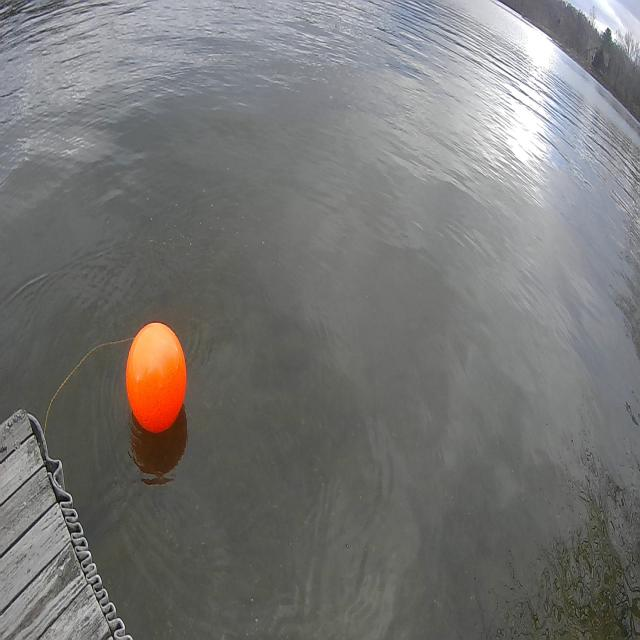Buoy: (125, 321, 187, 435)
